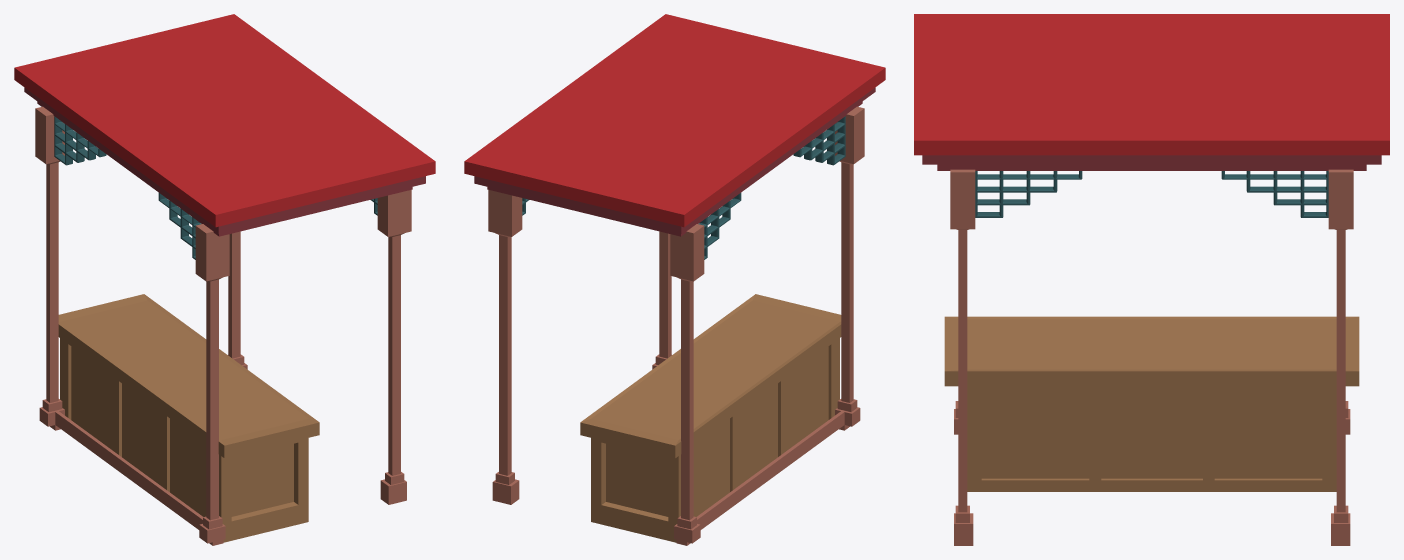
Rendered from Booth2.4.fbx.
3 renders of one model, left to right at view 1: azimuth 30°, elevation 25°; view 2: azimuth 150°, elevation 25°; view 3: azimuth 270°, elevation 25°, orthographic. The views are drawn at different scales.
Visible parts, largest first — view 1: Cube.001, body, Cube, body1, Cube.007, Cube.006; view 2: Cube.001, body, Cube, body1, Cube.007, Cube.006; view 3: Cube.001, body, Cube, Cube.007, Cube.006, body1.
Part boxes in pixels (x1,y1,x2,y2): Cube.001: (14,14,435,227); body: (58,294,319,542); Cube: (35,106,411,529); body1: (39,363,406,545); Cube.007: (24,87,425,236); Cube.006: (54,116,377,259); Cube.001: (464,14,885,227); body: (580,294,841,542); Cube: (488,106,864,529); body1: (492,363,860,545); Cube.007: (474,87,875,236); Cube.006: (522,116,845,259); Cube.001: (914,14,1389,155); body: (944,316,1359,491); Cube: (950,169,1353,522); Cube.007: (922,155,1381,170); Cube.006: (975,171,1328,217); body1: (954,409,1350,545).
Size of the model in its own units: 315 by 478 by 499.
